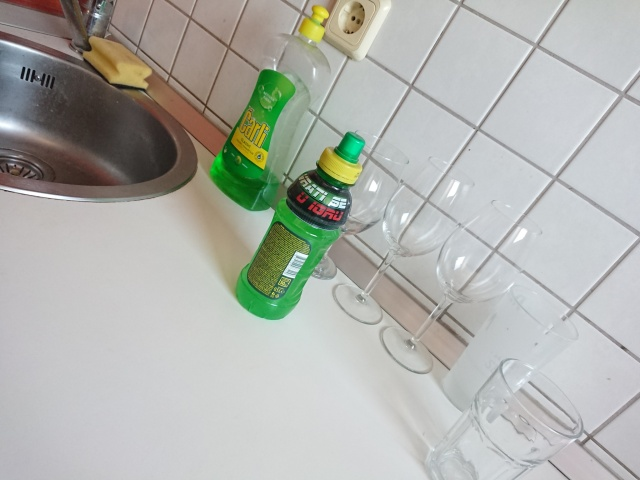Vindi Iso Sport Lemon-Grapefruit 500mL: (232, 128, 368, 324)
